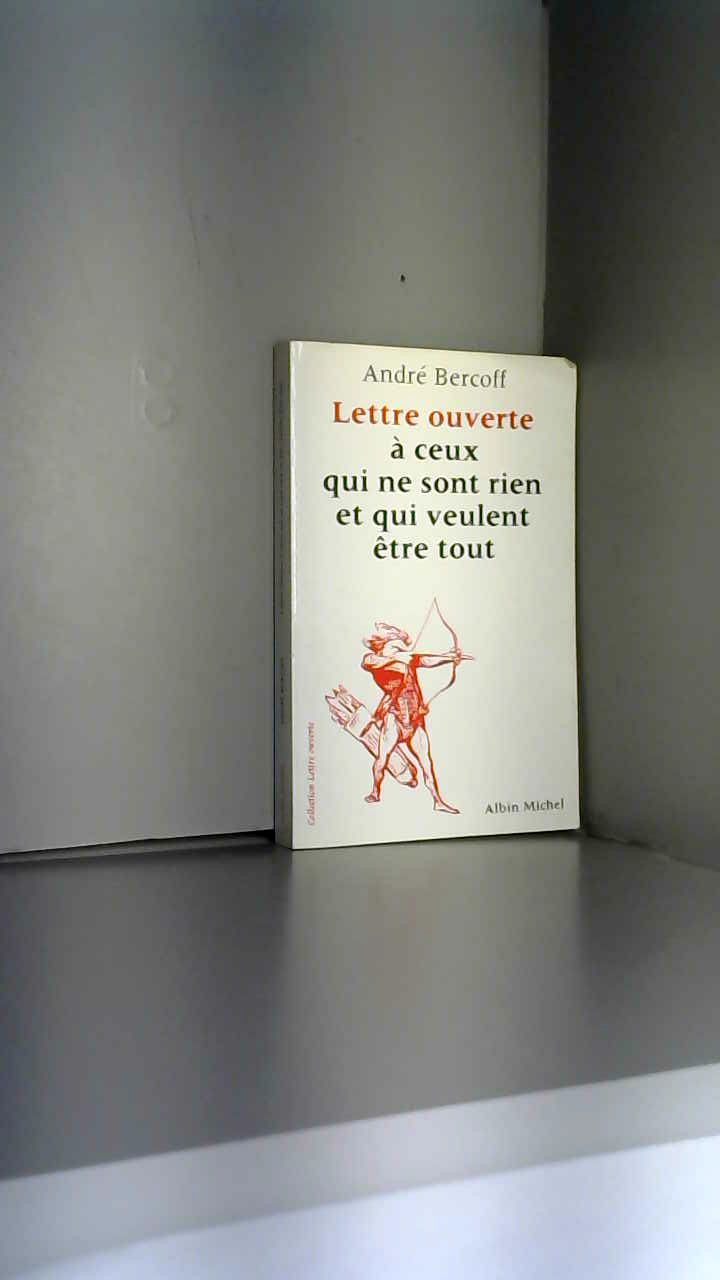book: (240, 310, 718, 936)
